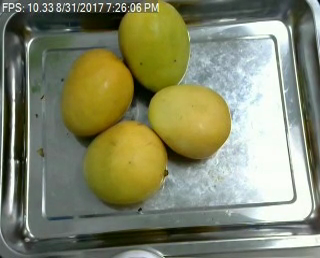Mango: (80, 120, 167, 202), (59, 47, 133, 138), (144, 83, 233, 158), (115, 1, 190, 89)
